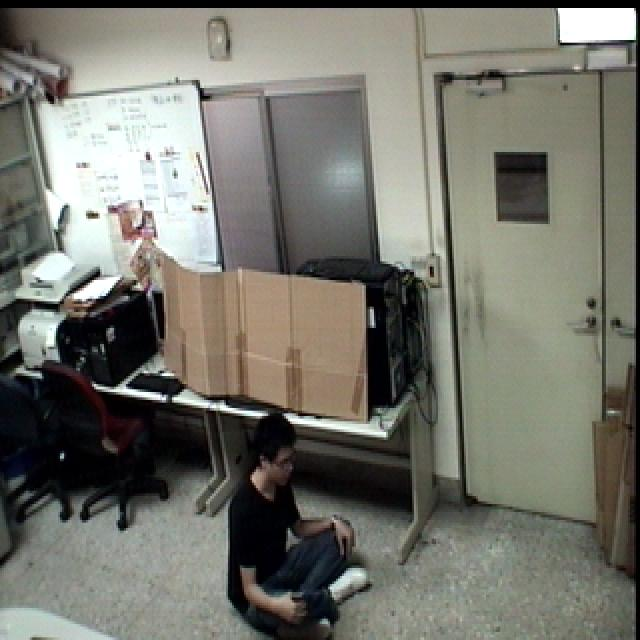sit: (223, 401, 378, 640)
